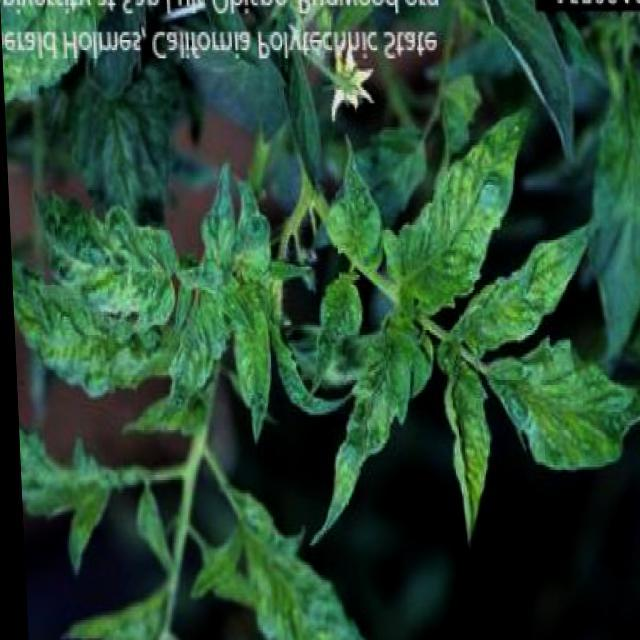Tomato yellow virus leaf: (377, 93, 552, 320), (294, 316, 428, 552), (472, 319, 639, 489), (438, 208, 604, 374), (23, 180, 177, 330), (218, 280, 278, 452), (328, 130, 386, 258)
